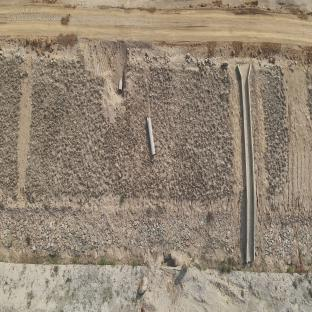rock_toe: (2, 209, 241, 259), (257, 219, 312, 262)
slope_drain: (237, 64, 256, 263), (14, 58, 34, 203)
toe_drain: (0, 250, 312, 274)
